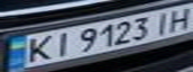1: (97, 21, 118, 48)
2: (112, 18, 136, 46)
3: (130, 15, 154, 42)
9: (75, 25, 100, 53)
H: (163, 4, 193, 32)
I: (48, 29, 75, 57), (148, 9, 175, 35)
K: (18, 34, 60, 64)
